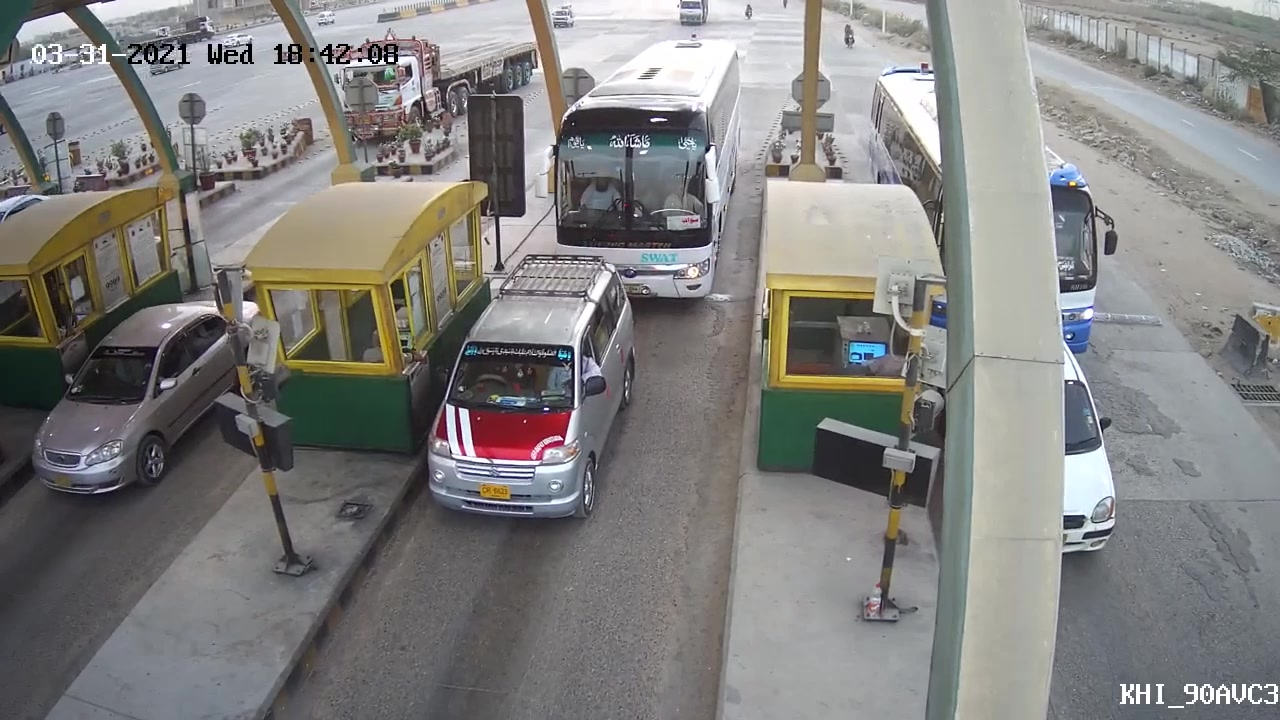F1: (420, 254, 638, 527)
F4: (552, 34, 742, 305)
